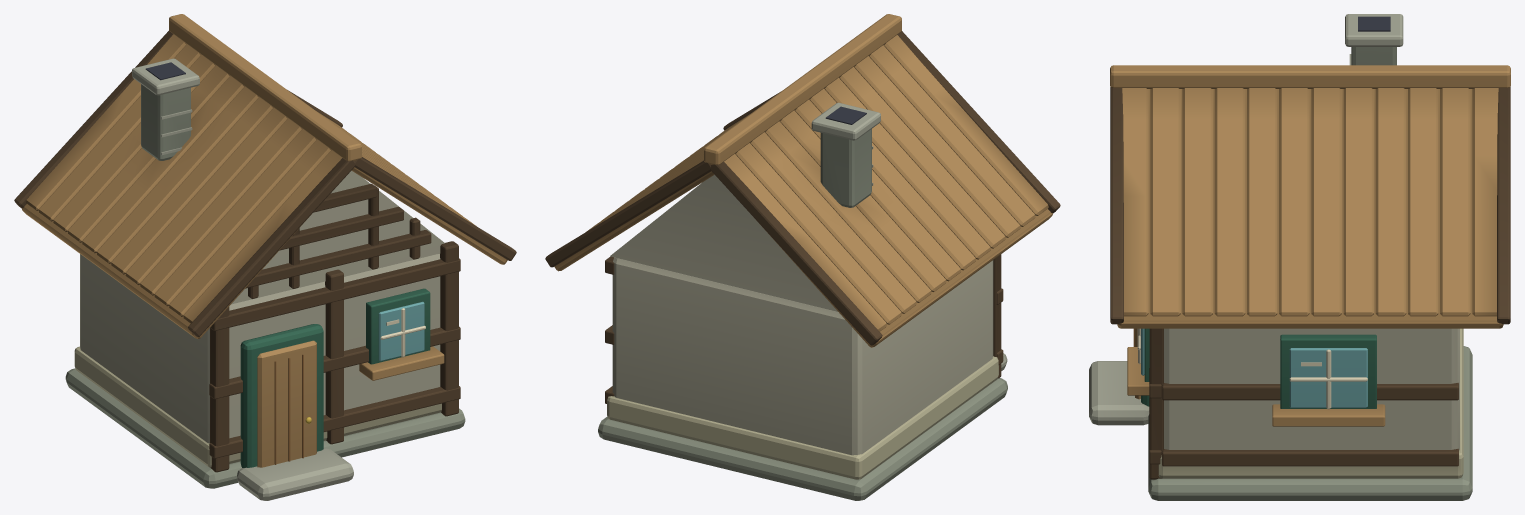
File: house_thatch.glb
3 views of the same model, side by side, from view 1: azimuth 30°, elevation 25°; view 2: azimuth 150°, elevation 25°; view 3: azimuth 270°, elevation 25° (orthographic). The views are drawn at different scales.
Visible parts, largest first — view 1: house_thatch; view 2: house_thatch; view 3: house_thatch.
Boxes of the visible parts, left/top/right/bottom form: house_thatch: left=14, top=14, right=516, bottom=500; house_thatch: left=545, top=14, right=1060, bottom=500; house_thatch: left=1089, top=14, right=1510, bottom=500.
Bounding box in the file's own units: 2.29 × 2.25 × 2.32.
